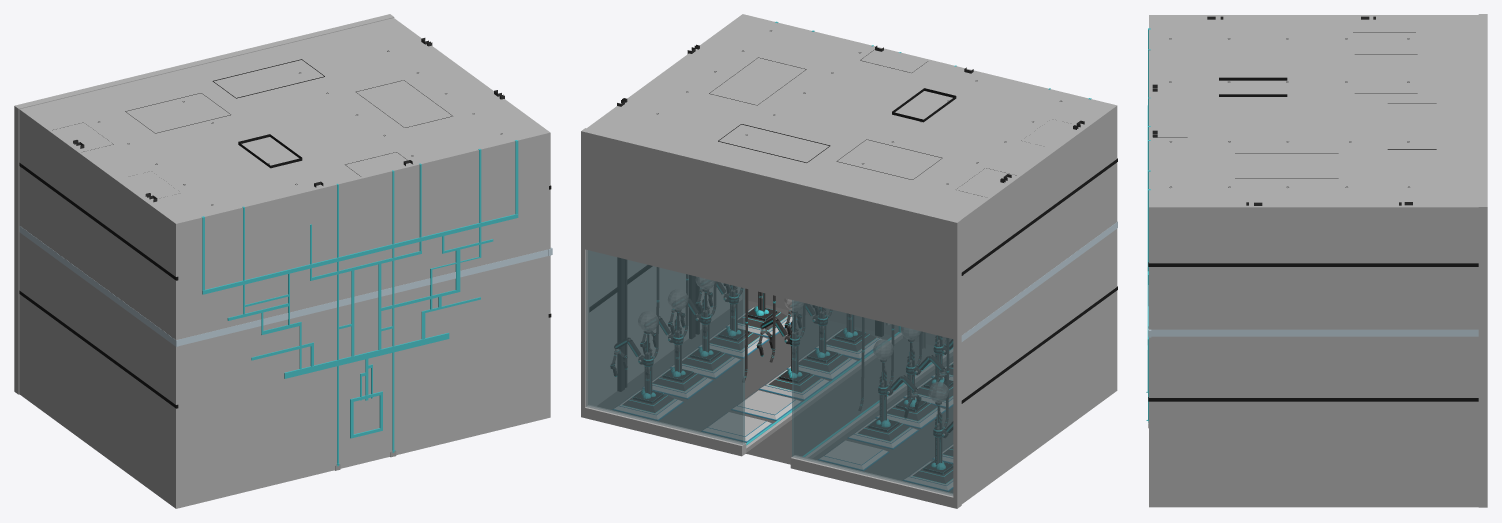
File: OplaadRuimteCompleet (1).fbx
The picture shows the model from 3 angles, left to right: view 1: azimuth 30°, elevation 25°; view 2: azimuth 150°, elevation 25°; view 3: azimuth 270°, elevation 25°; orthographic projection. The views are drawn at different scales.
Visible parts, largest first — view 1: RoomMesh, BlueStripesGlowing; view 2: RoomMesh, BlueStripesGroundGlowing; view 3: RoomMesh, BlueStripesGlowing.
Part boxes in pixels (box(x1,y1,x2,y2)): RoomMesh: box(14, 14, 552, 508); BlueStripesGlowing: box(202, 140, 518, 466); RoomMesh: box(581, 14, 1117, 508); BlueStripesGroundGlowing: box(746, 332, 952, 456); RoomMesh: box(1148, 14, 1487, 507); BlueStripesGlowing: box(1147, 28, 1150, 422).
Bounding box in the file's own units: 11.09 × 8.17 × 8.26.
